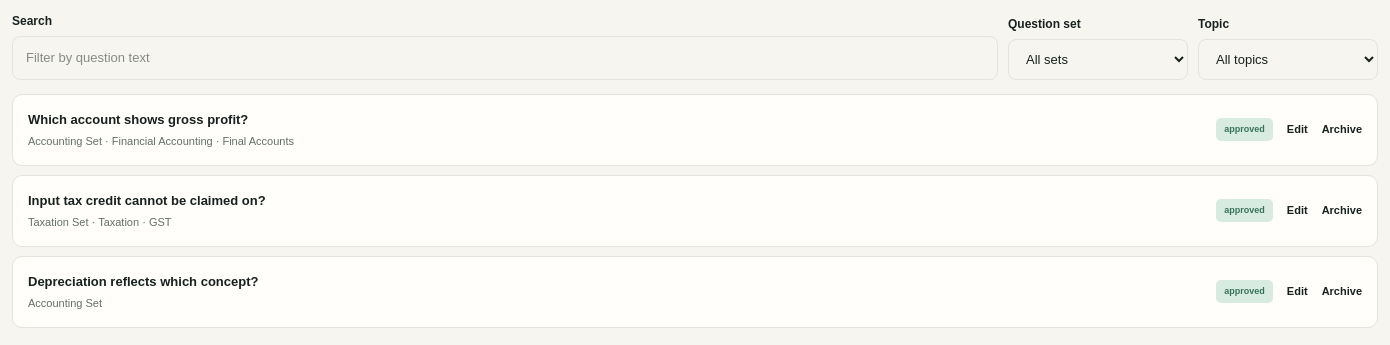
Scenario: QuestionBankList › filters by question set
The width and height of the screenshot is (1390, 345).
Select "Taxation Set" in the dropdown labelled "Question set". click: (1098, 59)
box: [1008,38,1188,80]
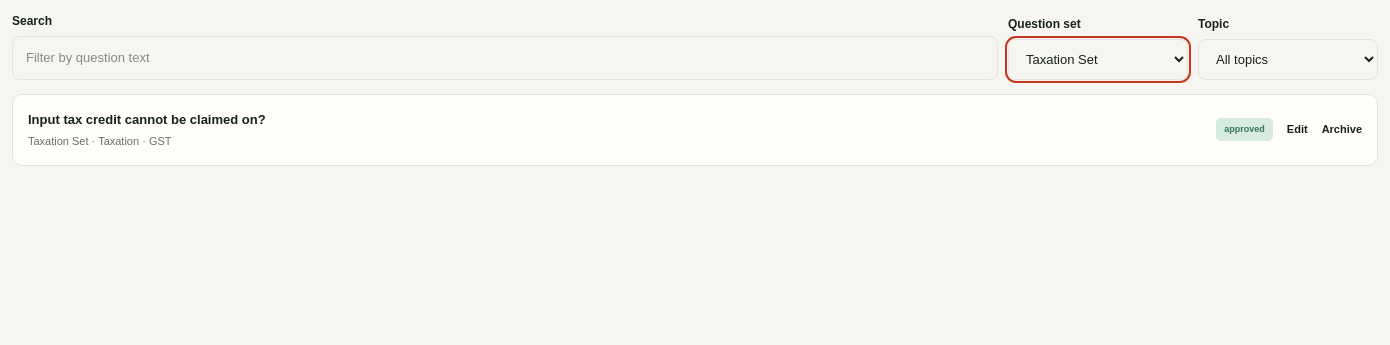
Expected: the text "Input tax credit cannot be claimed on?" is shown, [28,112,266,126]
Result: the text "Which account shows gross profit" is gone
Result: the text "Depreciation reflects" is gone
